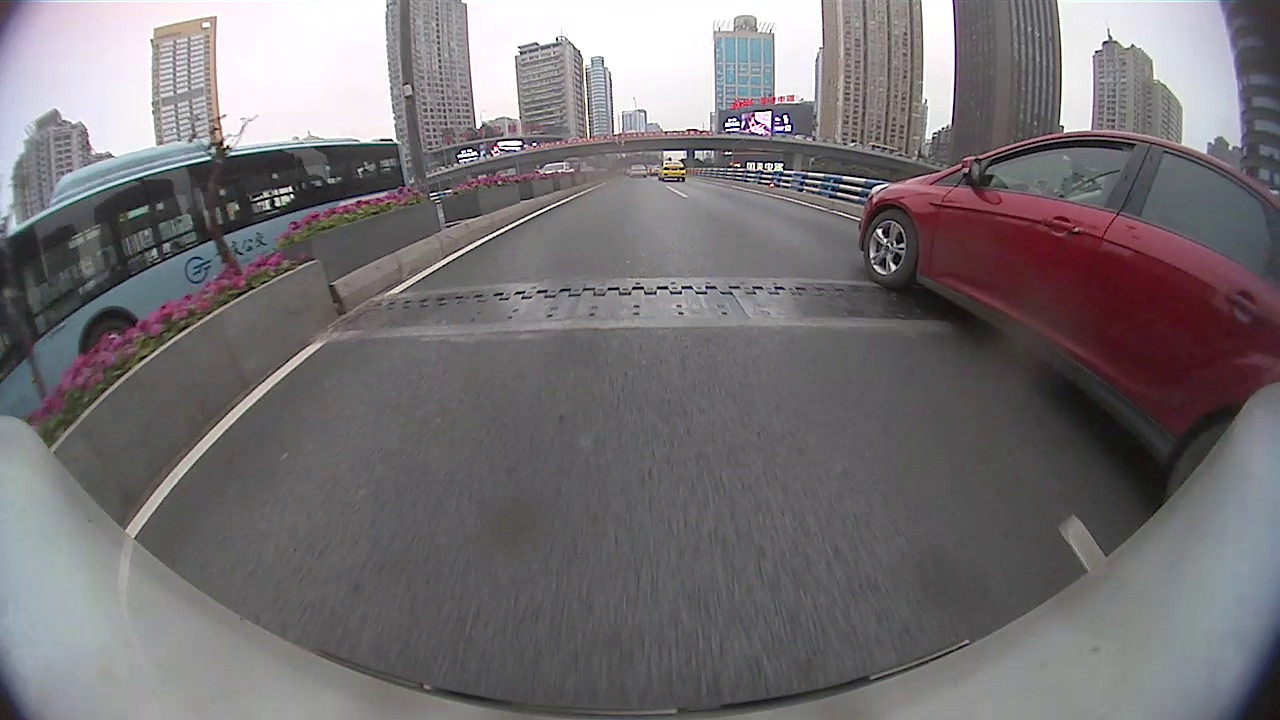bus: (1, 131, 419, 426)
car: (855, 124, 1276, 513), (655, 157, 691, 185), (537, 159, 577, 177), (627, 162, 650, 180)
front: (860, 206, 918, 291), (79, 311, 136, 361)
